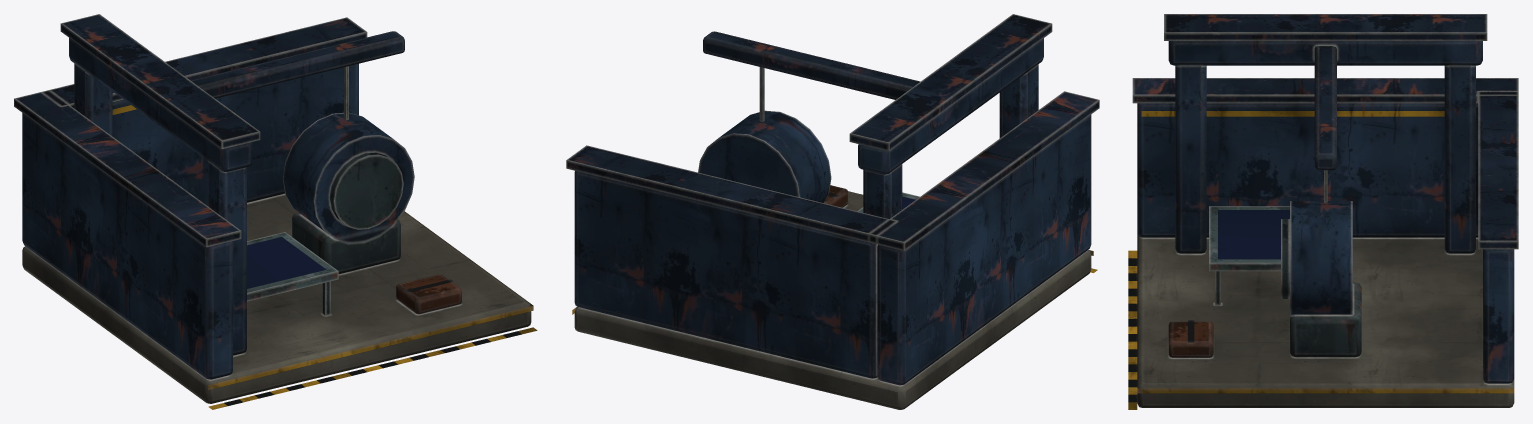
File: factory.glb
3 views of the same model, side by side, from view 1: azimuth 30°, elevation 25°; view 2: azimuth 150°, elevation 25°; view 3: azimuth 270°, elevation 25° (orthographic).
Visible parts, largest first — view 1: te_factory; view 2: te_factory; view 3: te_factory.
Part boxes in pixels (x1,y1,x2,y2): te_factory: (14,14,537,409); te_factory: (566,14,1099,409); te_factory: (1128,14,1518,409).
Bounding box in the file's own units: 0.86 × 0.615 × 0.87.
1 material, 1 textured.
